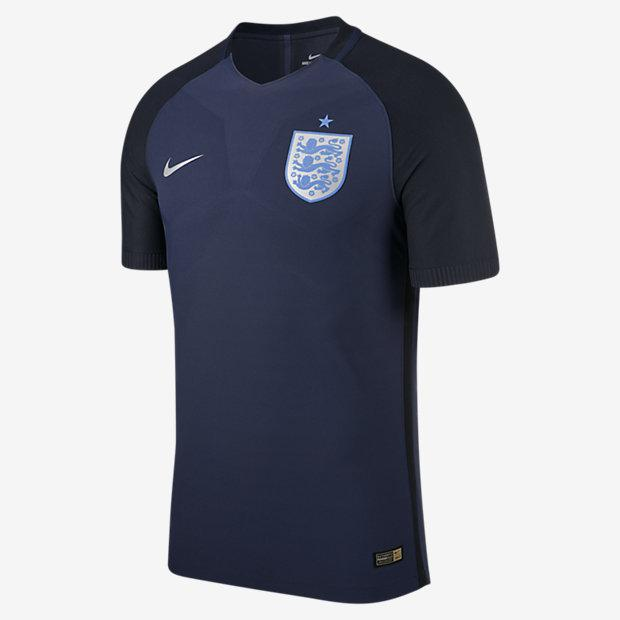teeshirt: (91, 16, 541, 620)
